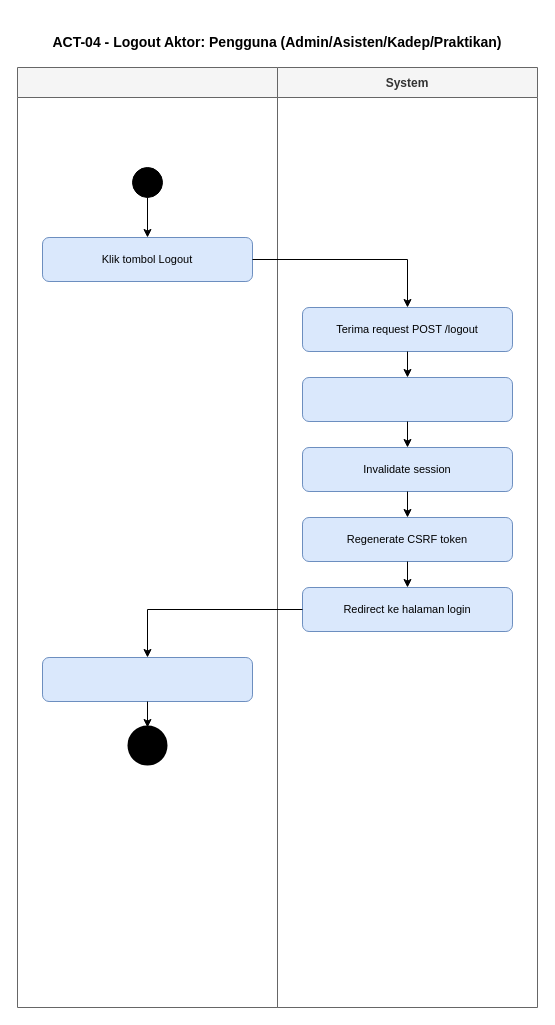
This 555x1025 diagram has some shape labels left out. Each missing label, with the box of its shape:
Kembali ke halaman login: (42, 656, 252, 702)
Logout guard web: (302, 376, 512, 422)
Pengguna: (16, 66, 278, 1008)
